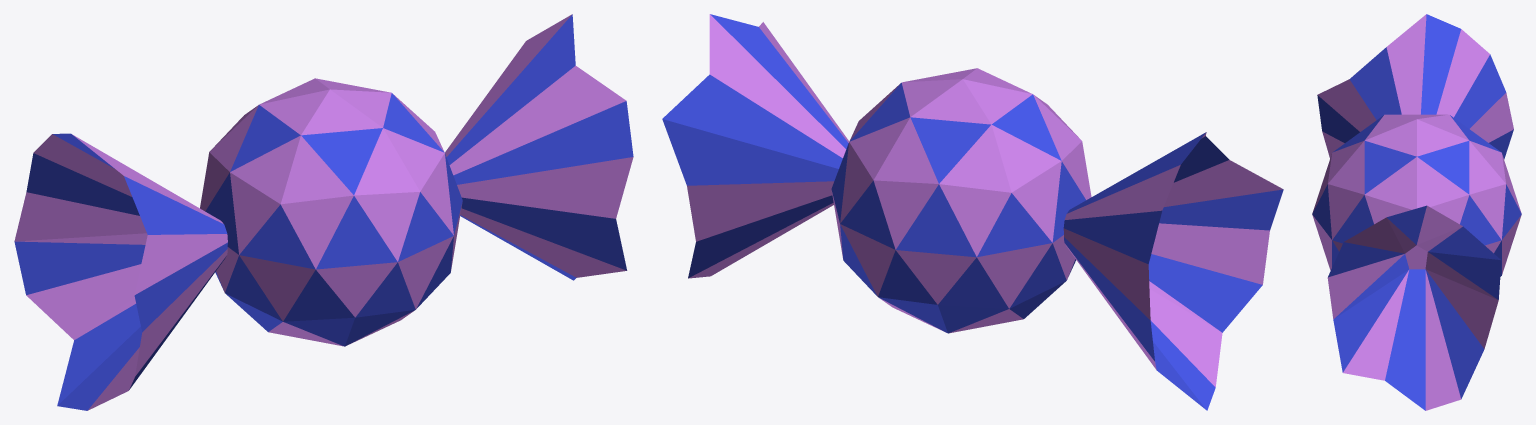
Rendered from Taffy02.fbx.
The picture shows the model from 3 angles, left to right: view 1: azimuth 30°, elevation 25°; view 2: azimuth 150°, elevation 25°; view 3: azimuth 270°, elevation 25°; orthographic projection. The views are drawn at different scales.
Parts seen in each view (by area): view 1: Candy; view 2: Candy; view 3: Candy.
Part boxes in pixels (x1,y1,x2,y2): Candy: [14, 14, 633, 410]; Candy: [662, 14, 1283, 410]; Candy: [1312, 14, 1521, 410].
Size of the model in its own units: 390 by 202 by 180.
